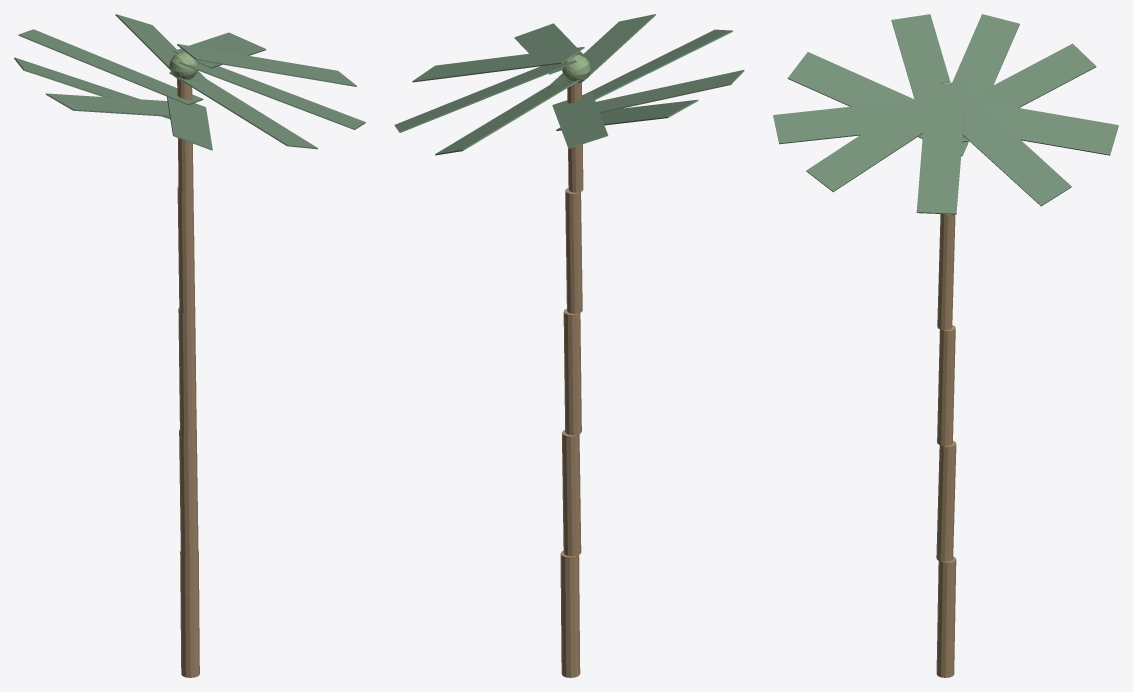
The model's file is mdl_vegetation_palm_royal_001.glb.
3 renders of one model, left to right at view 1: azimuth 30°, elevation 25°; view 2: azimuth 150°, elevation 25°; view 3: azimuth 270°, elevation 25°, orthographic. The views are drawn at different scales.
Parts seen in each view (by area): view 1: m_manigua, m_madera, m_manigua_claro; view 2: m_manigua, m_madera, m_manigua_claro; view 3: m_manigua, m_madera.
Boxes of the visible parts, x1=… form: m_manigua: x1=14, y1=14, x2=365, y2=150; m_madera: x1=177, y1=79, x2=199, y2=677; m_manigua_claro: x1=169, y1=52, x2=198, y2=79; m_manigua: x1=394, y1=14, x2=744, y2=155; m_madera: x1=560, y1=80, x2=583, y2=677; m_manigua_claro: x1=562, y1=54, x2=590, y2=83; m_manigua: x1=773, y1=14, x2=1118, y2=214; m_madera: x1=936, y1=214, x2=956, y2=677.
Bounding box in the file's own units: 5.3 × 10.36 × 5.48.
